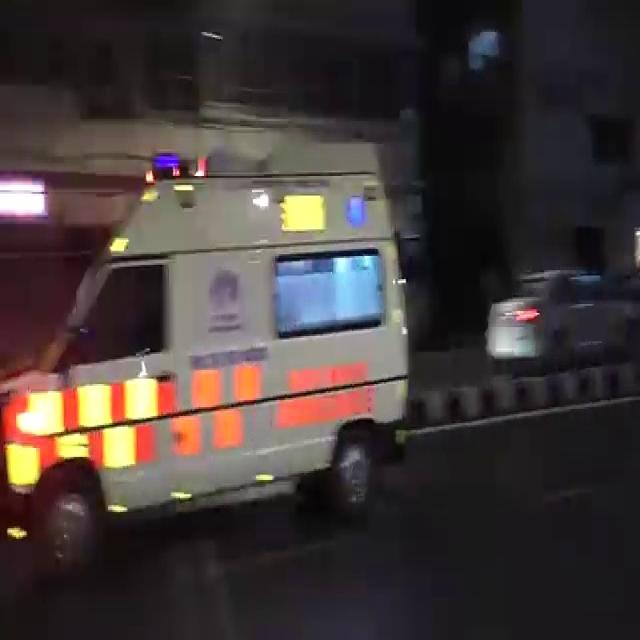ambulance: (6, 164, 414, 508)
